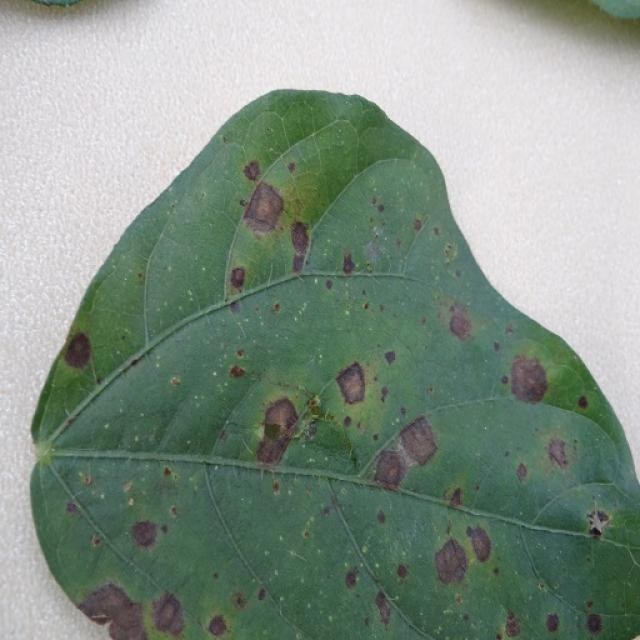Anthracnose: (76, 581, 182, 640), (257, 390, 324, 466), (351, 202, 404, 275), (434, 293, 485, 343), (508, 355, 548, 404), (373, 449, 408, 489), (335, 361, 366, 404), (63, 330, 93, 371), (466, 524, 493, 563), (290, 223, 310, 273), (229, 256, 252, 296), (130, 519, 159, 550), (284, 298, 312, 328), (584, 507, 611, 538), (283, 191, 309, 223), (547, 437, 570, 470), (245, 214, 277, 237), (154, 466, 179, 494), (374, 590, 392, 626), (131, 427, 160, 447), (504, 611, 521, 637), (242, 160, 261, 182), (585, 612, 602, 634), (447, 487, 463, 508), (231, 591, 248, 610), (545, 612, 560, 633), (342, 251, 355, 275), (345, 566, 359, 588), (306, 394, 321, 412), (516, 462, 528, 482), (443, 243, 455, 263), (229, 365, 245, 379), (254, 424, 266, 442), (66, 500, 80, 515), (128, 355, 142, 369), (396, 564, 409, 579), (79, 471, 92, 486), (384, 350, 396, 365), (577, 395, 589, 409), (380, 385, 389, 403), (249, 370, 262, 382), (377, 508, 386, 524), (505, 323, 516, 336), (91, 534, 102, 547), (413, 218, 423, 232), (257, 587, 267, 601), (123, 481, 133, 493), (335, 137, 345, 148), (287, 162, 296, 174), (170, 506, 179, 517), (170, 377, 181, 386), (219, 430, 227, 442), (272, 481, 279, 494), (322, 506, 330, 517), (325, 279, 333, 290), (434, 625, 442, 635), (501, 375, 509, 384), (377, 203, 385, 212), (237, 348, 245, 357), (361, 545, 369, 554), (443, 608, 453, 615), (586, 600, 594, 608), (433, 227, 440, 236), (273, 303, 280, 312), (455, 269, 462, 278), (128, 498, 135, 507), (187, 290, 194, 298), (363, 301, 369, 310), (213, 572, 219, 580), (539, 582, 545, 590), (303, 531, 309, 538), (428, 386, 433, 394), (167, 266, 173, 272), (264, 550, 270, 556), (279, 596, 285, 602), (327, 616, 333, 622), (278, 535, 284, 541), (344, 310, 350, 316), (104, 423, 110, 429), (274, 569, 279, 576), (134, 435, 139, 442), (375, 562, 380, 569), (100, 493, 105, 500), (201, 267, 206, 272), (213, 371, 218, 376), (187, 440, 191, 445)
Blackgram: (28, 89, 639, 639)
